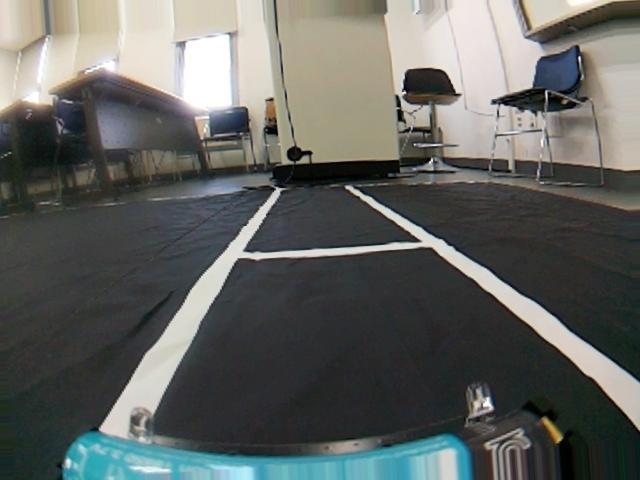straight: (75, 224, 640, 478)
